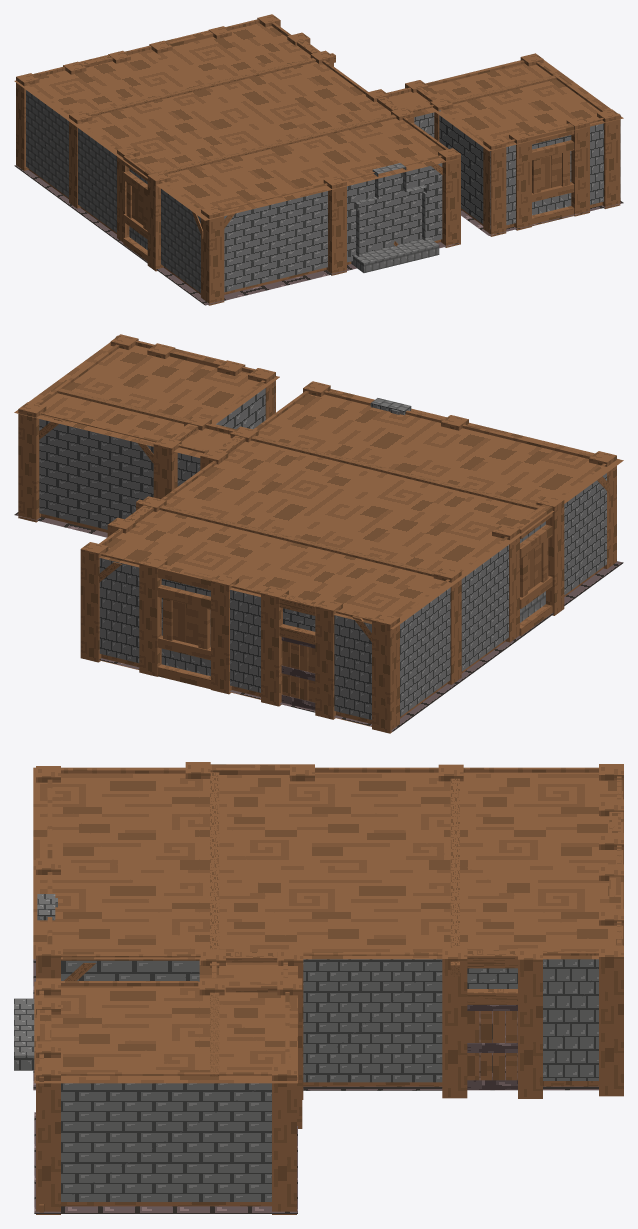
File: Scene2_HouseIterior.glb
3 views of the same model, one above another, from view 1: azimuth 30°, elevation 25°; view 2: azimuth 150°, elevation 25°; view 3: azimuth 270°, elevation 25° (orthographic). The views are drawn at different scales.
Parts seen in each view (by area): view 1: Techo, Pared.012, Pared.011, Ventana.003, Pared.006, Pared.007, Pared.008, Chimenea, Pared.013, Piso, Pilar.014, Pilar.019 (+17 smaller); view 2: Techo, Pared.015, Ventana, Pared.006, Pared.007, Pared.003, Pared.008, Pared.005, Ventana.002, Pared.004, Pilar.004, Pilar.015 (+20 smaller); view 3: Techo, Pared.014, Pared, Pared.001, Door.001, Pilar.008, Pilar.007, Pilar.011, Pilar.015, Pilar.013, Piso, Pared.009 (+14 smaller).
Part boxes in pixels (<box>): Techo: <box>14,23,623,220</box>; Pared.012: <box>221,183,327,294</box>; Pared.011: <box>343,155,442,264</box>; Ventana.003: <box>528,123,574,226</box>; Pared.006: <box>26,83,70,198</box>; Pared.007: <box>78,121,118,234</box>; Pared.008: <box>161,181,201,294</box>; Chimenea: <box>351,163,439,272</box>; Pared.013: <box>439,109,484,225</box>; Piso: <box>14,165,623,305</box>; Pilar.014: <box>483,137,506,236</box>; Pilar.019: <box>201,206,224,305</box>; Techo: <box>14,342,623,629</box>; Pared.015: <box>39,412,158,532</box>; Ventana: <box>157,564,215,689</box>; Pared.006: <box>397,579,450,718</box>; Pared.007: <box>460,537,508,673</box>; Pared.003: <box>99,552,140,669</box>; Pared.008: <box>557,463,606,596</box>; Pared.005: <box>334,609,373,726</box>; Ventana.002: <box>513,504,552,635</box>; Pared.004: <box>230,584,262,699</box>; Pilar.004: <box>372,613,399,733</box>; Pilar.015: <box>18,402,46,522</box>; Techo: <box>33,767,623,1083</box>; Pared.014: <box>61,1072,271,1206</box>; Pared: <box>303,952,442,1090</box>; Pared.001: <box>543,951,598,1086</box>; Door.001: <box>467,1005,517,1089</box>; Pilar.008: <box>442,947,467,1098</box>; Pilar.007: <box>599,945,623,1096</box>; Pilar.011: <box>518,948,542,1098</box>; Pilar.015: <box>272,1064,296,1214</box>; Pilar.013: <box>36,1064,60,1214</box>; Piso: <box>33,959,598,1213</box>; Pared.009: <box>61,954,200,981</box>.
Size of the model in its own units: 15.17 by 3.12 by 12.39.
21 materials, 20 textured.
